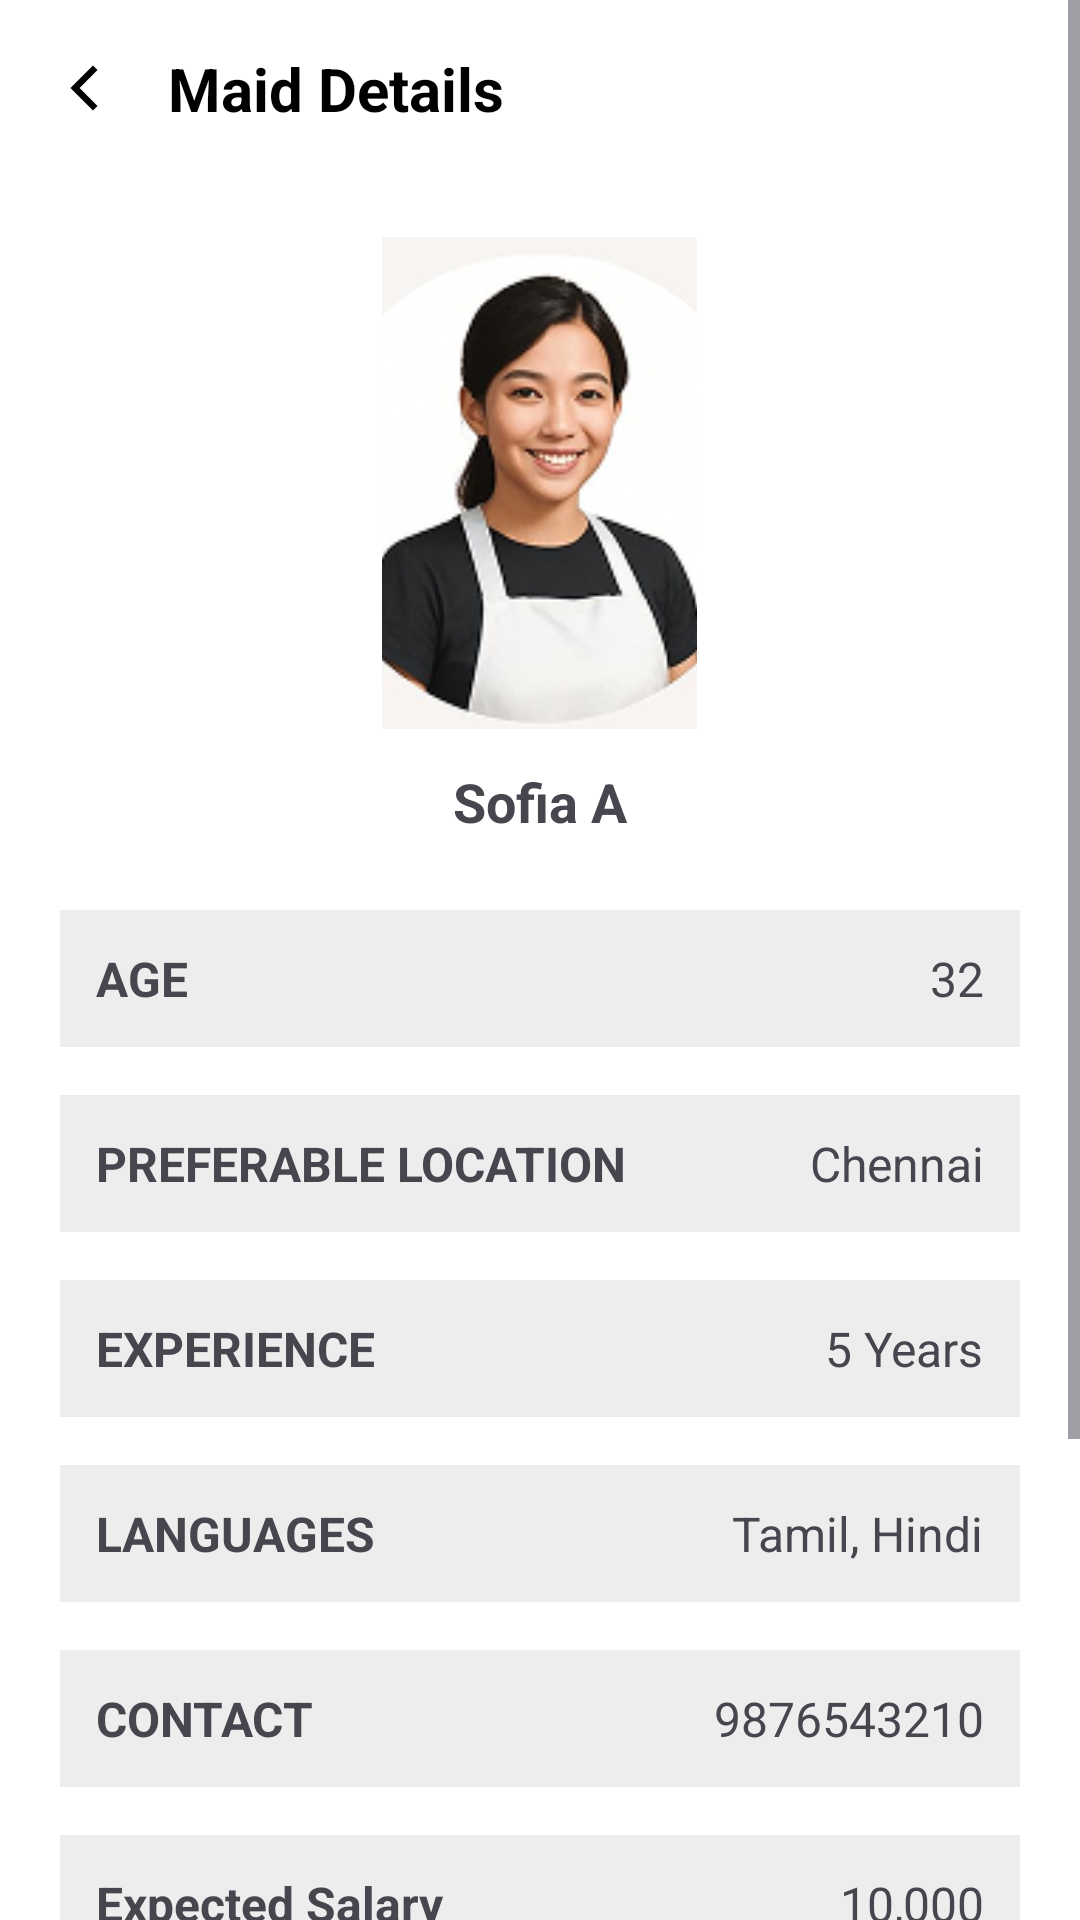

Where icons sit on this 1080px×1920px app screen, as bbox=(x1, y1, x2, y2):
Back: bbox=(70, 65, 98, 111)
